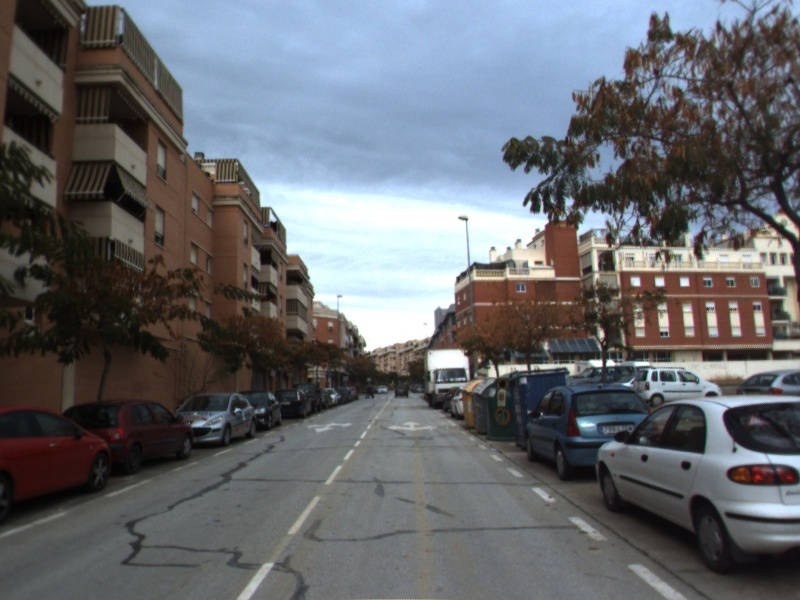STRAIGHT_LEFT_RIGHT: (385, 418, 440, 434)
